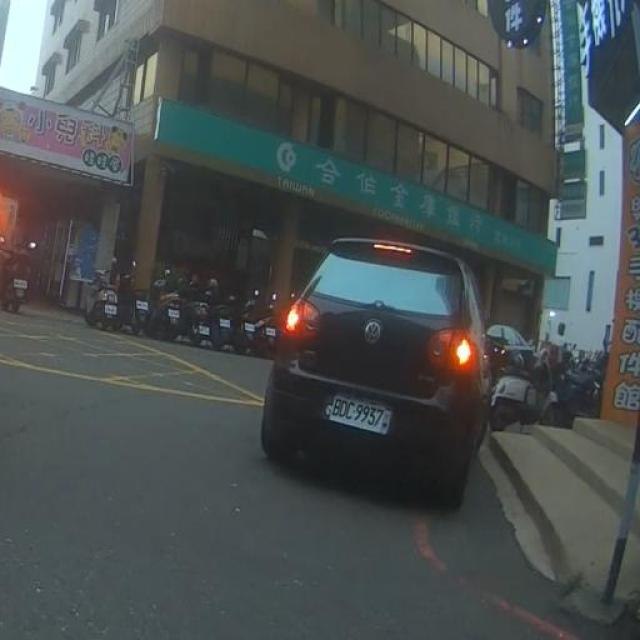Legalparking: (8, 236, 274, 355), (489, 316, 618, 439)
illegalparking: (260, 238, 489, 510)
